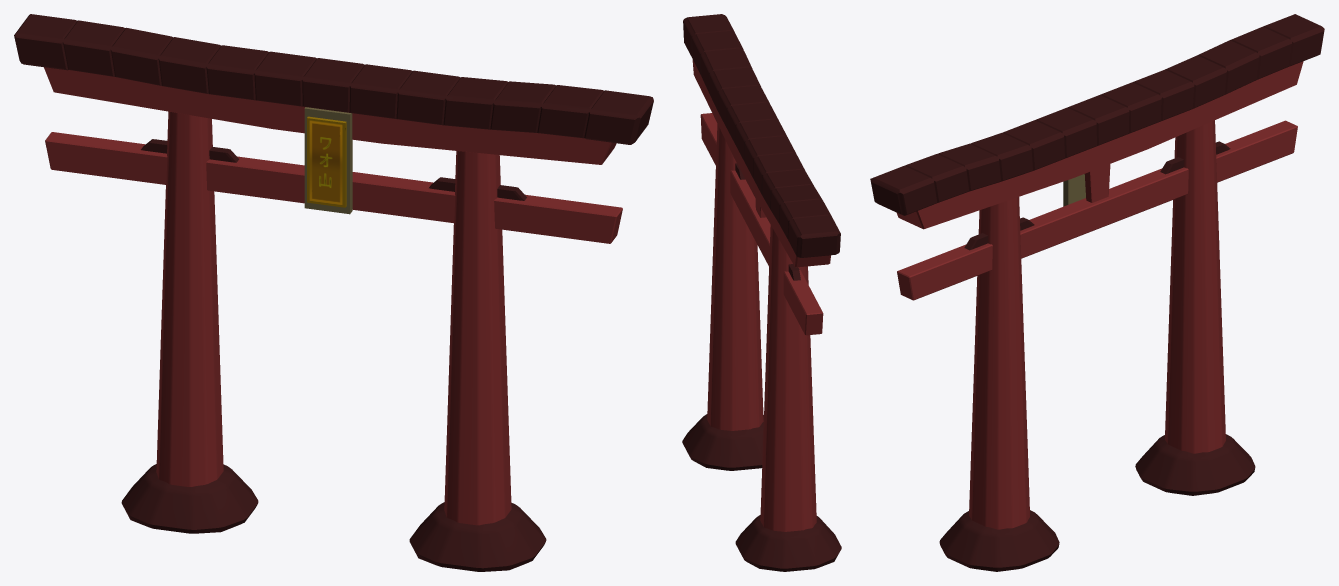
Rendered from tori.glb.
The picture shows the model from 3 angles, left to right: view 1: azimuth 30°, elevation 25°; view 2: azimuth 150°, elevation 25°; view 3: azimuth 270°, elevation 25°; orthographic projection. The views are drawn at different scales.
Parts seen in each view (by area): view 1: pasted__pCube59, pasted__pasted__pCube60; view 2: pasted__pCube59; view 3: pasted__pCube59, pasted__pasted__pCube60.
Part boxes in pixels (x1,y1,x2,y2): pasted__pCube59: [14, 14, 653, 571]; pasted__pasted__pCube60: [304, 107, 352, 214]; pasted__pCube59: [682, 14, 841, 571]; pasted__pCube59: [870, 14, 1324, 571]; pasted__pasted__pCube60: [1063, 174, 1085, 206].
Size of the model in its own units: 3.18 by 3.38 by 3.42.
2 materials, 2 textured.
